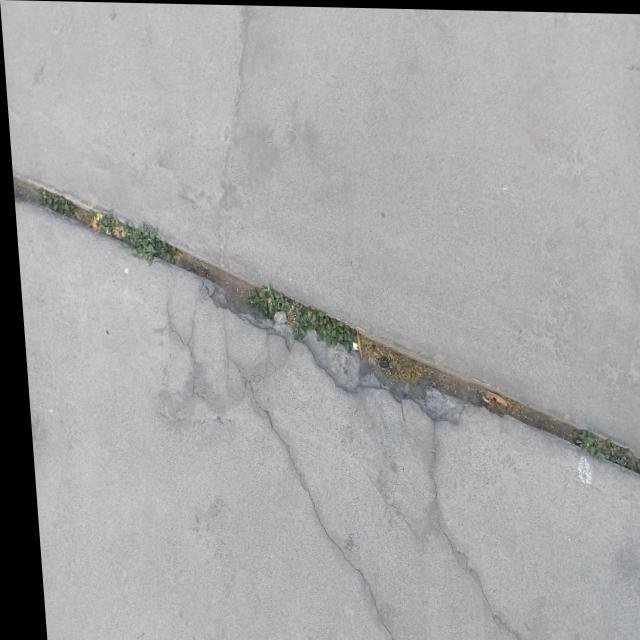hole: (33, 233, 577, 426)
